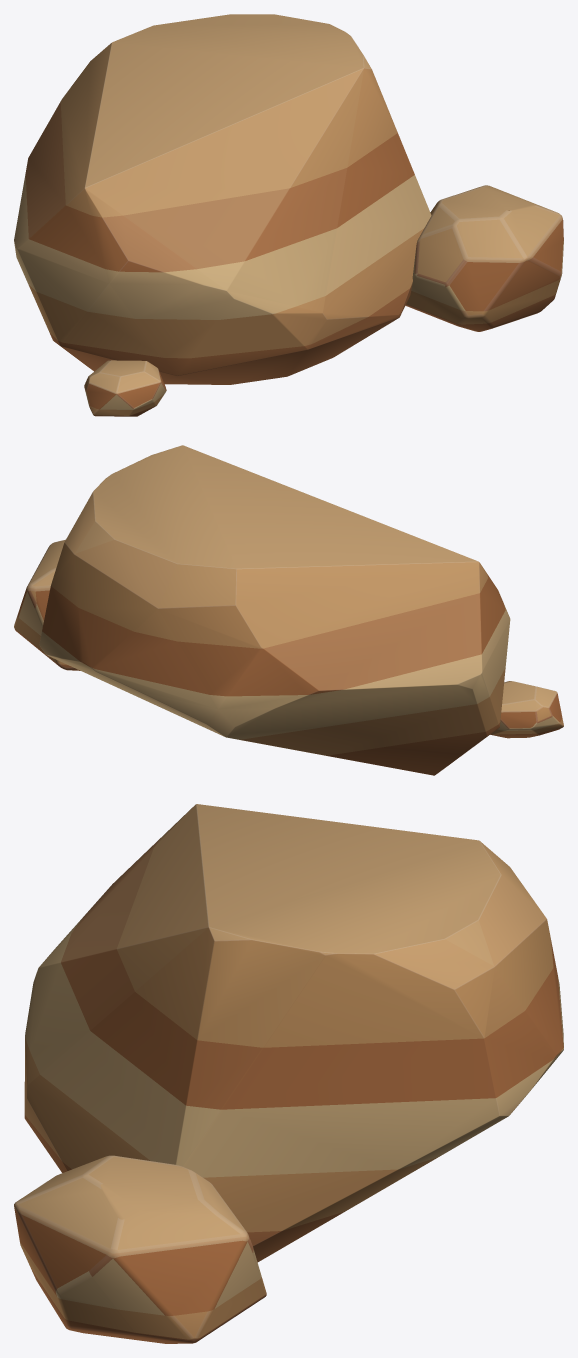
The model's file is rock_sandy_b.glb.
3 views of the same model, one above another, from view 1: azimuth 30°, elevation 25°; view 2: azimuth 150°, elevation 25°; view 3: azimuth 270°, elevation 25° (orthographic). The views are drawn at different scales.
Visible parts, largest first — view 1: rock_sandy_b; view 2: rock_sandy_b; view 3: rock_sandy_b.
Part boxes in pixels (bbox=[...]): rock_sandy_b: bbox=[14, 14, 563, 416]; rock_sandy_b: bbox=[14, 445, 563, 775]; rock_sandy_b: bbox=[14, 804, 563, 1343].
Size of the model in its own units: 1.45 by 0.695 by 1.04.
